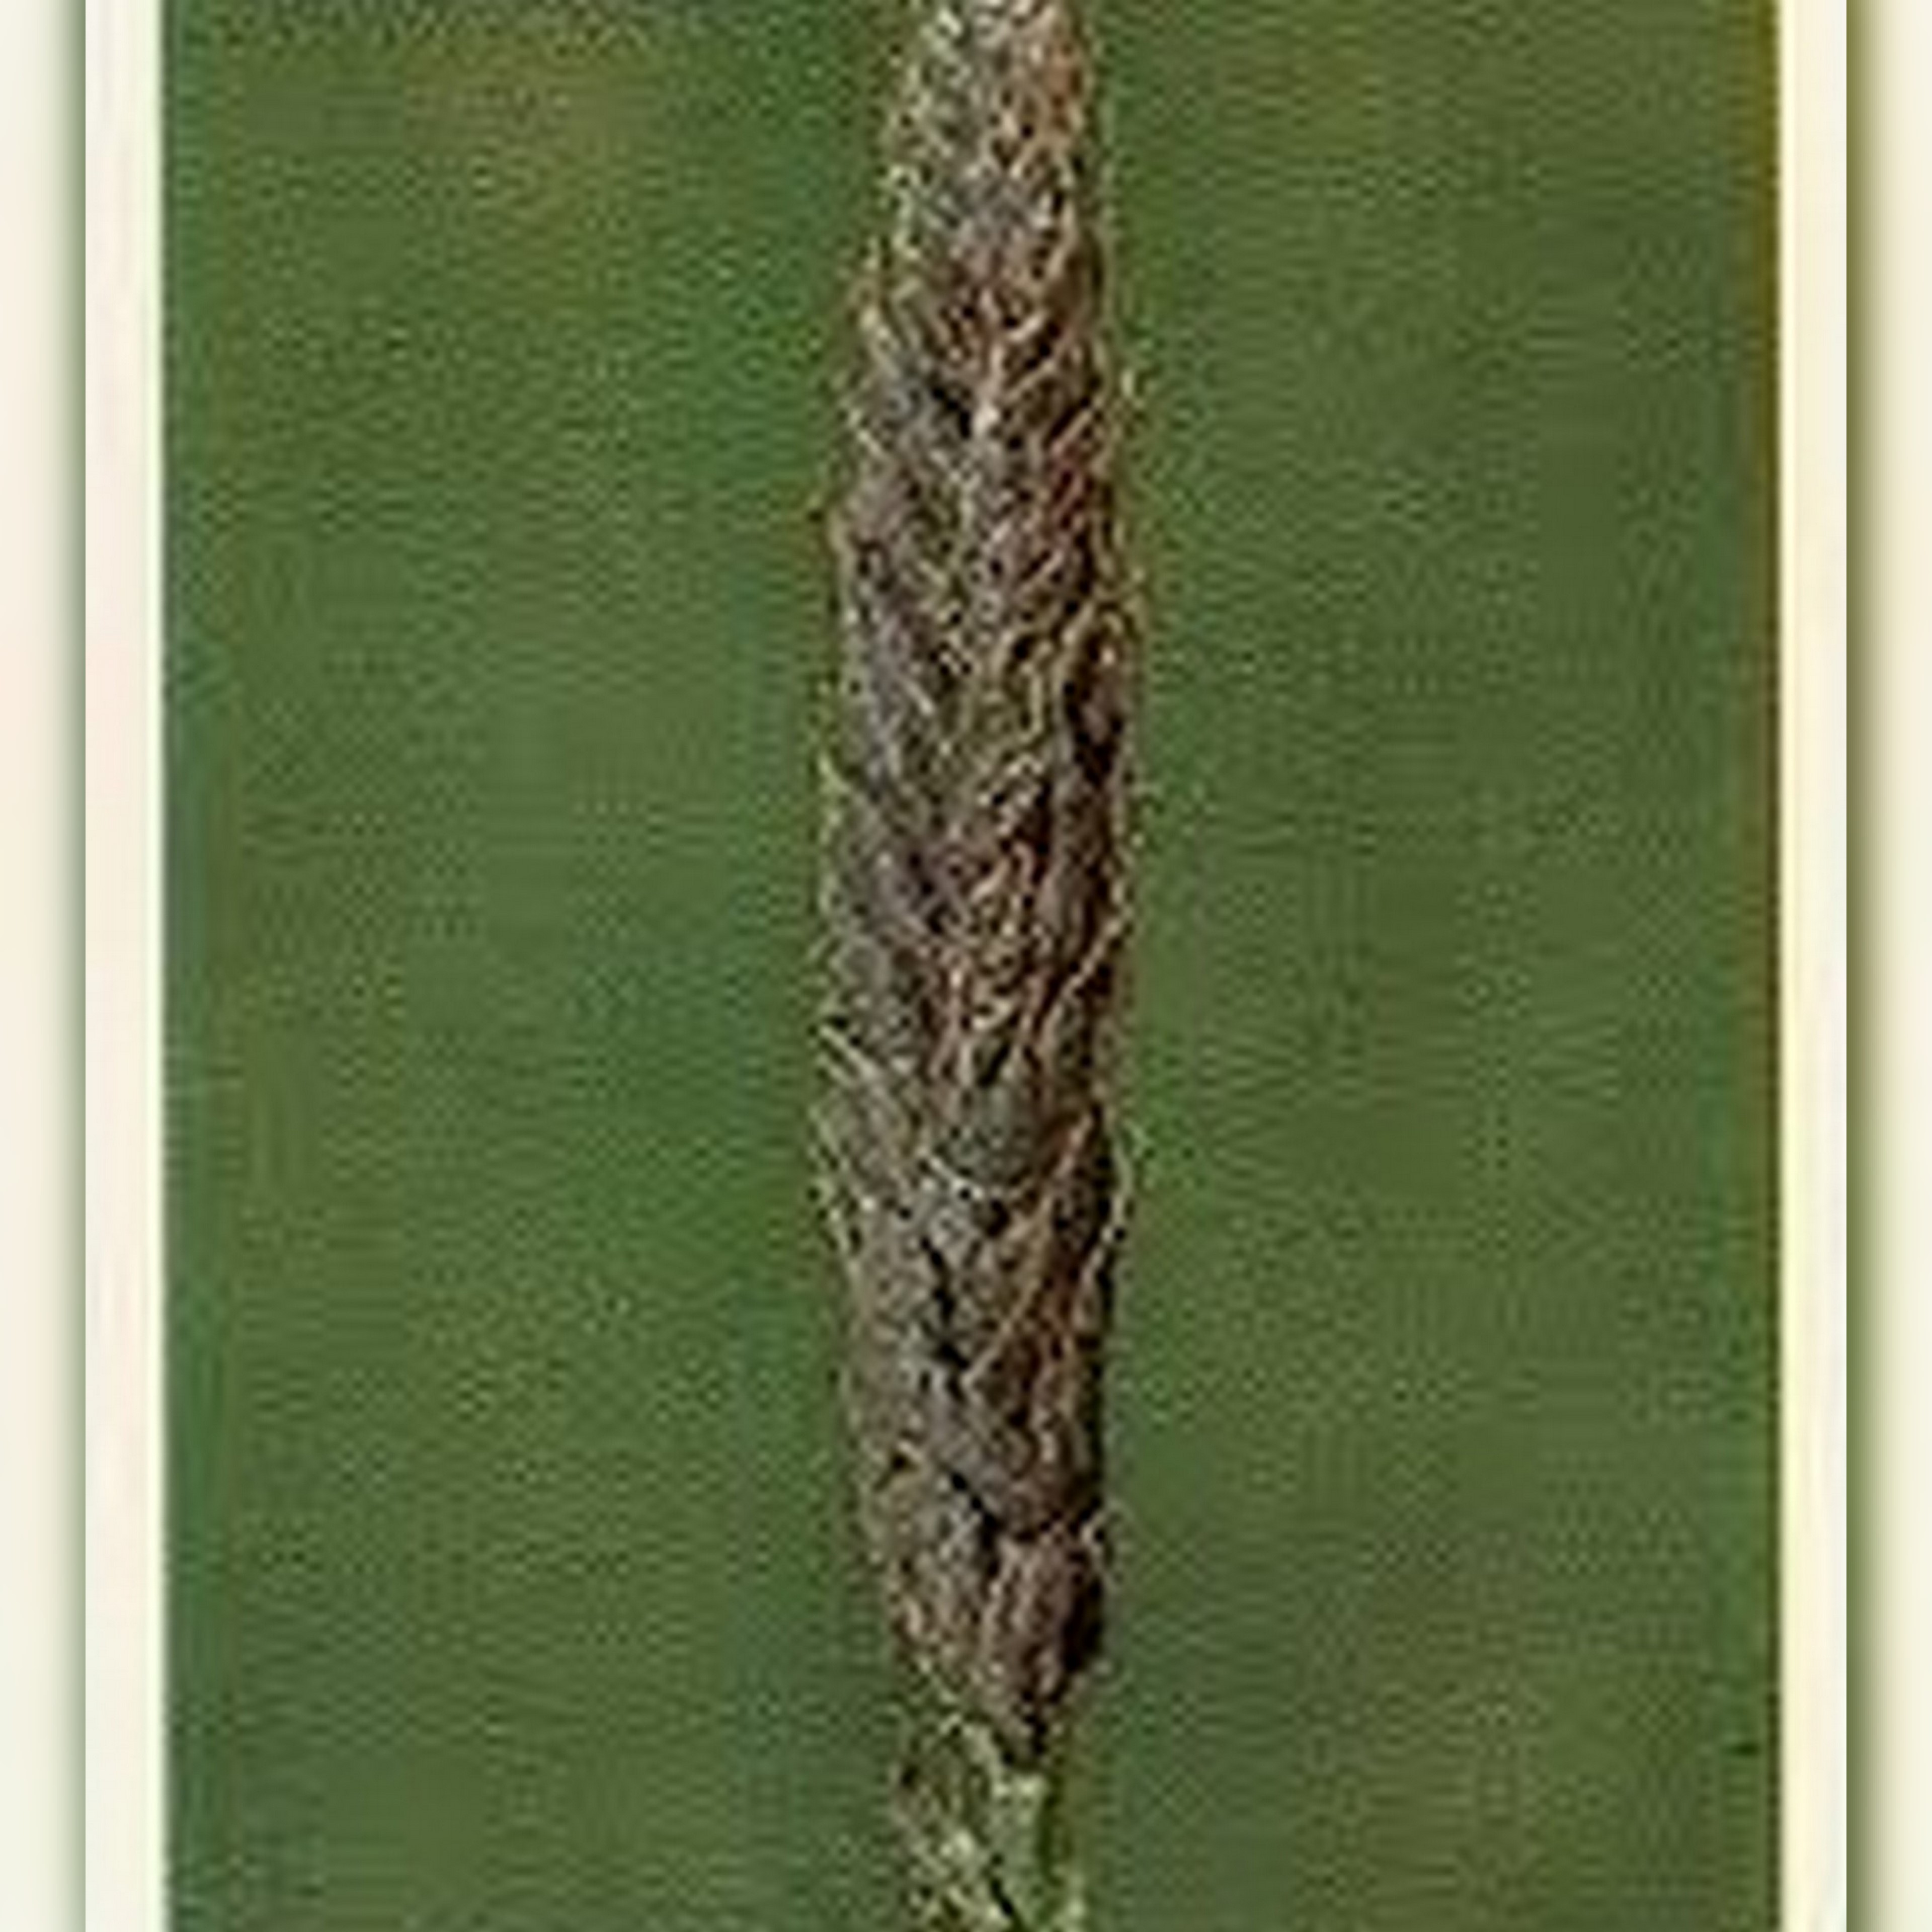Wheat Loose Smut: (764, 90, 1242, 1773)
